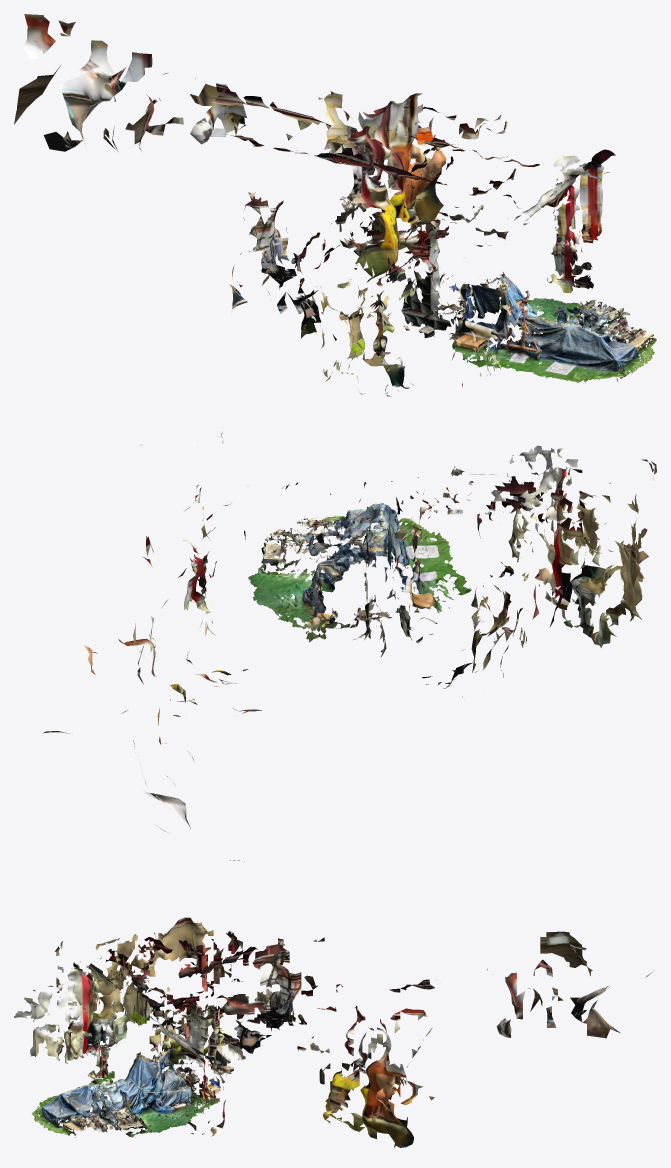
File: 140760-XspaceRoomC-tex.glb
The picture shows the model from 3 angles, top to bottom: view 1: azimuth 30°, elevation 25°; view 2: azimuth 150°, elevation 25°; view 3: azimuth 270°, elevation 25°; orthographic projection. The views are drawn at different scales.
Parts seen in each view (by area): view 1: Node; view 2: Node; view 3: Node.
Boxes of the visible parts, box(x1,y1,x2,y2) form: Node: box(14, 14, 656, 396); Node: box(43, 431, 656, 861); Node: box(14, 917, 654, 1147).
Bounding box in the file's own units: 12.19 × 4.95 × 21.
Materials: 16 (16 with a texture image).
